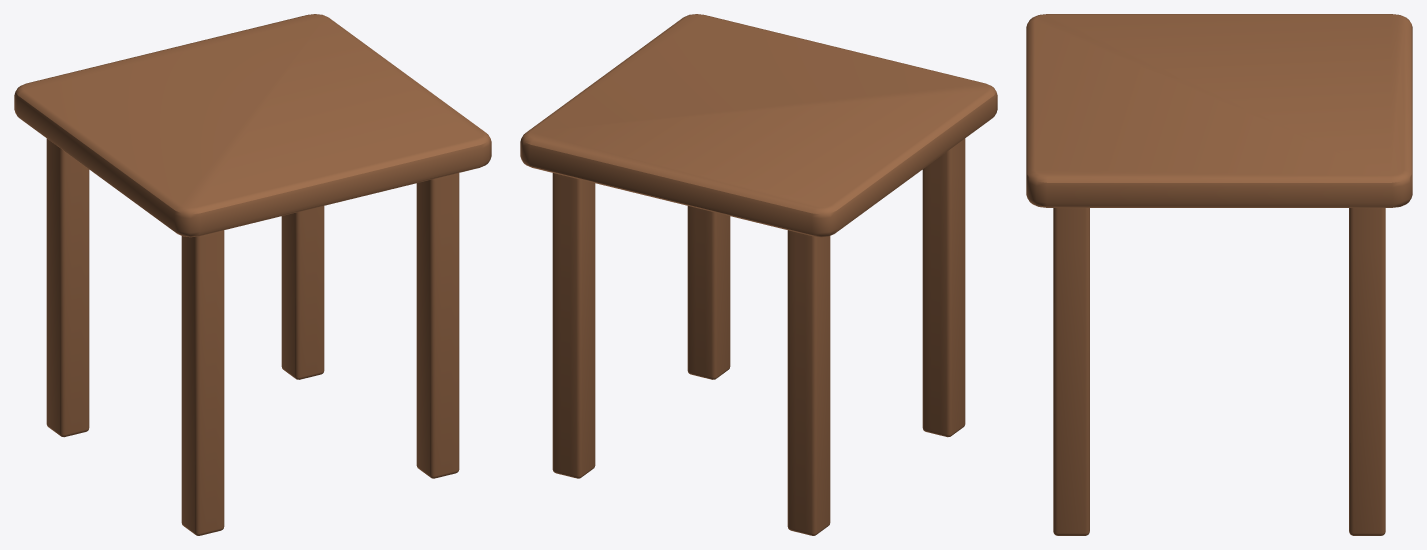
File: STOL.fbx
3 renders of one model, left to right at view 1: azimuth 30°, elevation 25°; view 2: azimuth 150°, elevation 25°; view 3: azimuth 270°, elevation 25°, orthographic. The views are drawn at different scales.
Visible parts, largest first — view 1: Cube.035, Cube.034; view 2: Cube.035, Cube.034; view 3: Cube.035, Cube.034.
Part boxes in pixels (bbox=[...]): Cube.035: bbox=[14, 14, 491, 237]; Cube.034: bbox=[46, 138, 459, 535]; Cube.035: bbox=[520, 14, 997, 237]; Cube.034: bbox=[552, 138, 965, 535]; Cube.035: bbox=[1026, 14, 1412, 207]; Cube.034: bbox=[1053, 208, 1385, 535].
Bounding box in the file's own units: 507 × 522 × 492.
